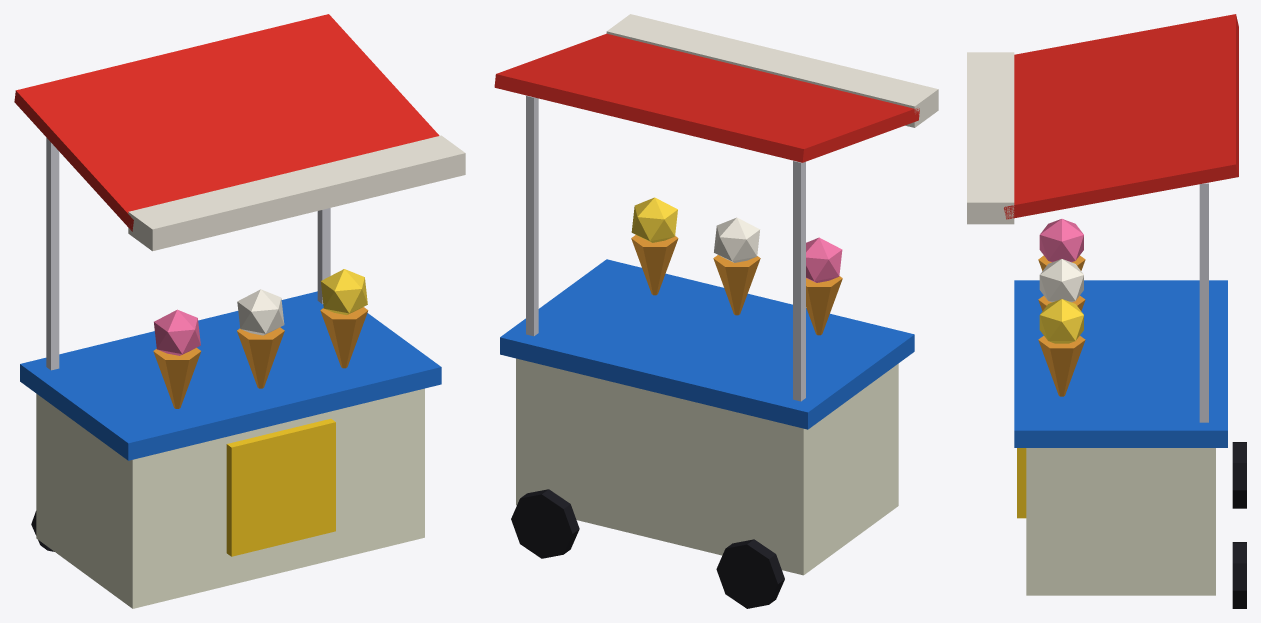
Rendered from ice_cream_cart.glb.
3 renders of one model, left to right at view 1: azimuth 30°, elevation 25°; view 2: azimuth 150°, elevation 25°; view 3: azimuth 270°, elevation 25°, orthographic.
Visible parts, largest first — view 1: ice_cream_cart; view 2: ice_cream_cart; view 3: ice_cream_cart.
Boxes of the visible parts, x1=… form: ice_cream_cart: x1=14, y1=14, x2=465, y2=608; ice_cream_cart: x1=494, y1=14, x2=938, y2=608; ice_cream_cart: x1=967, y1=14, x2=1246, y2=608.
Size of the model in its own units: 1.5 by 2.18 by 1.18.
